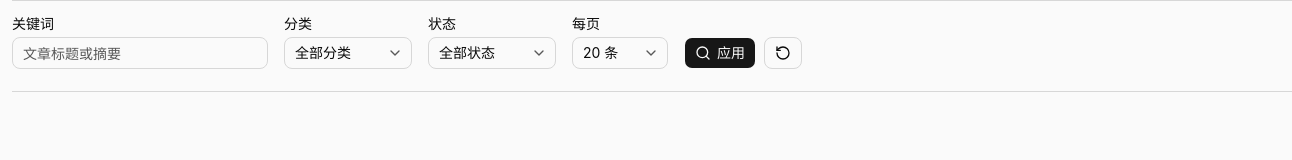
ArticleFilters › resets a category selected only in the local draft
Click the dropdown labelled "分类": (348, 53) [284,37,412,69]
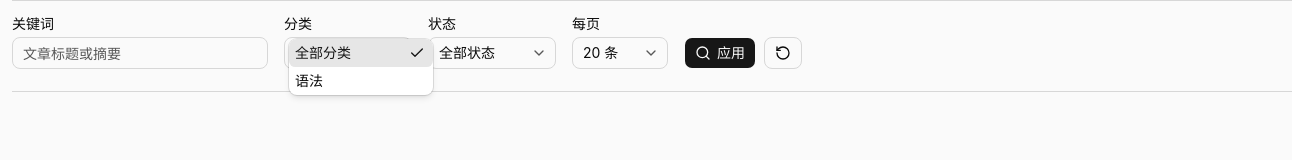
Click the option "语法": (309, 80) [295,72,323,89]
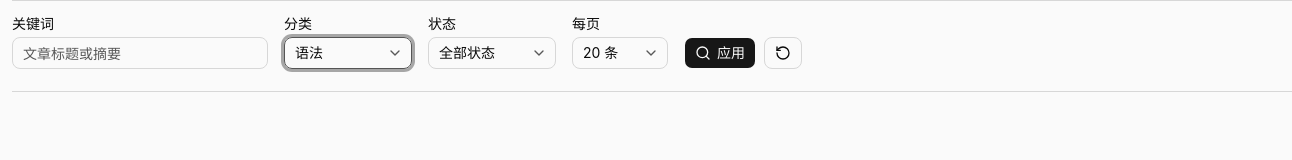
expect the dropdown named "分类" reads "语法": met, box [284,37,412,69]
Click the button named "重置筛选": (783, 53) [764,37,802,69]
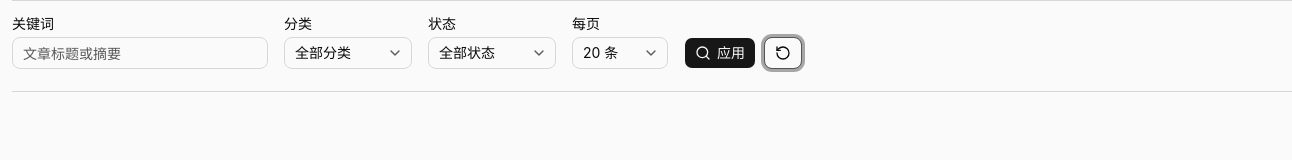
expect the dropdown labelled "分类" reads "全部分类": met, box [284,37,412,69]
